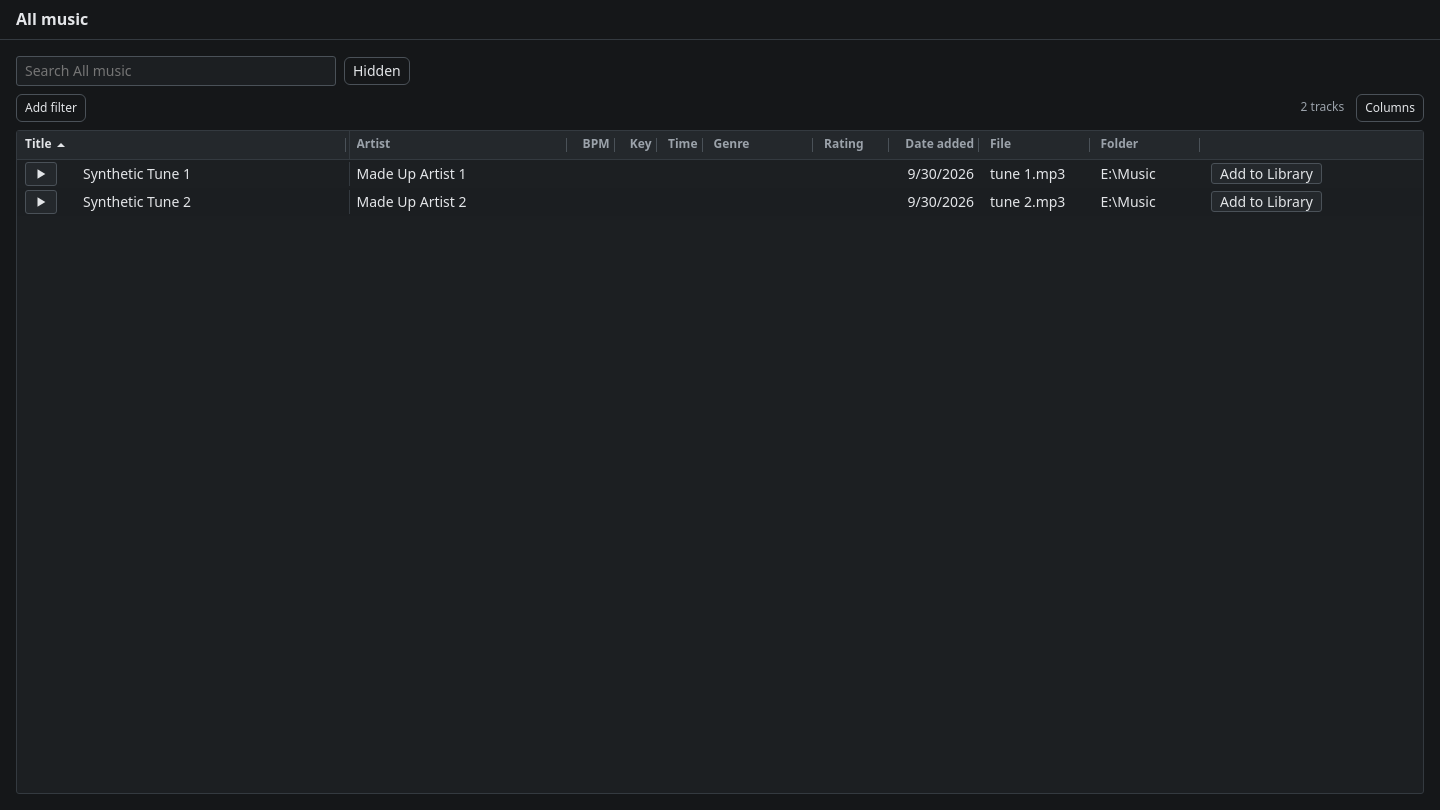
Test: adding a low-bitrate file › shows the warning with exactly two choices, and adds nothing yet
The image size is (1440, 810).
Click the button "Add to Library" in the row of "Synthetic Tune 2": click(1266, 202) [1211, 191, 1322, 212]
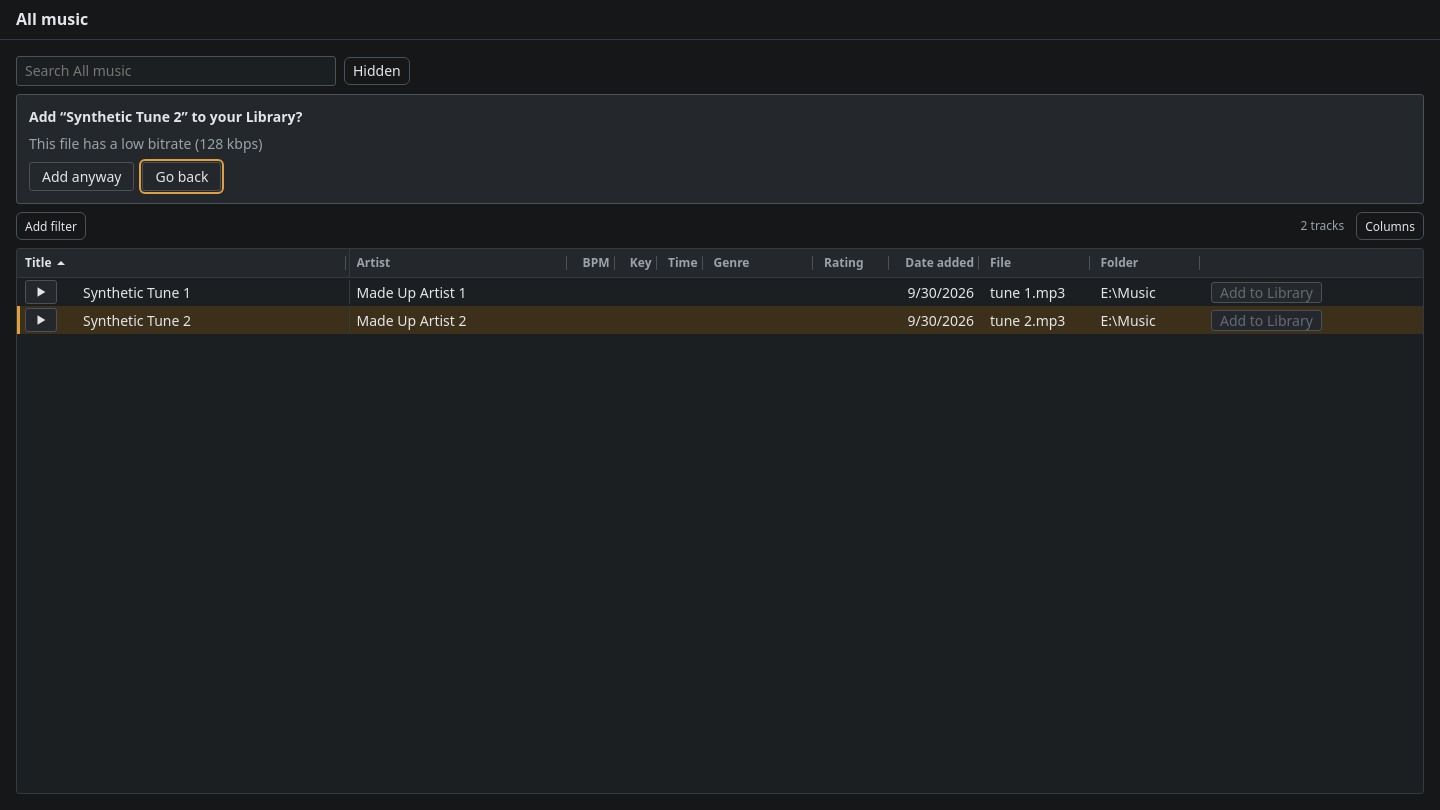
Expected: the buttons read "Add anyway", "Go back", in this order, [29, 162, 134, 191]; [142, 162, 222, 191]
